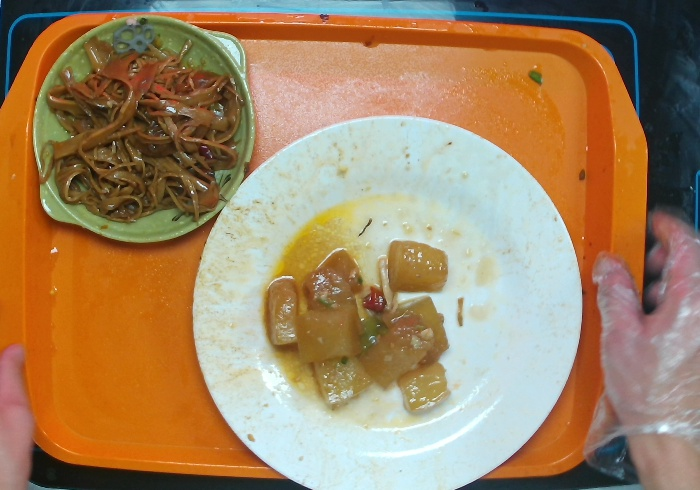NLDX-Da_Yuan_Pan: (187, 88, 585, 490)
NLDX-Lv_Hua_Shuang_Er_Die: (23, 10, 262, 257)
